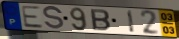2: (139, 9, 161, 36)
9: (68, 7, 88, 32)
B: (90, 8, 112, 33)
E: (20, 5, 45, 29)
I: (126, 9, 136, 34)
S: (42, 5, 66, 31)
